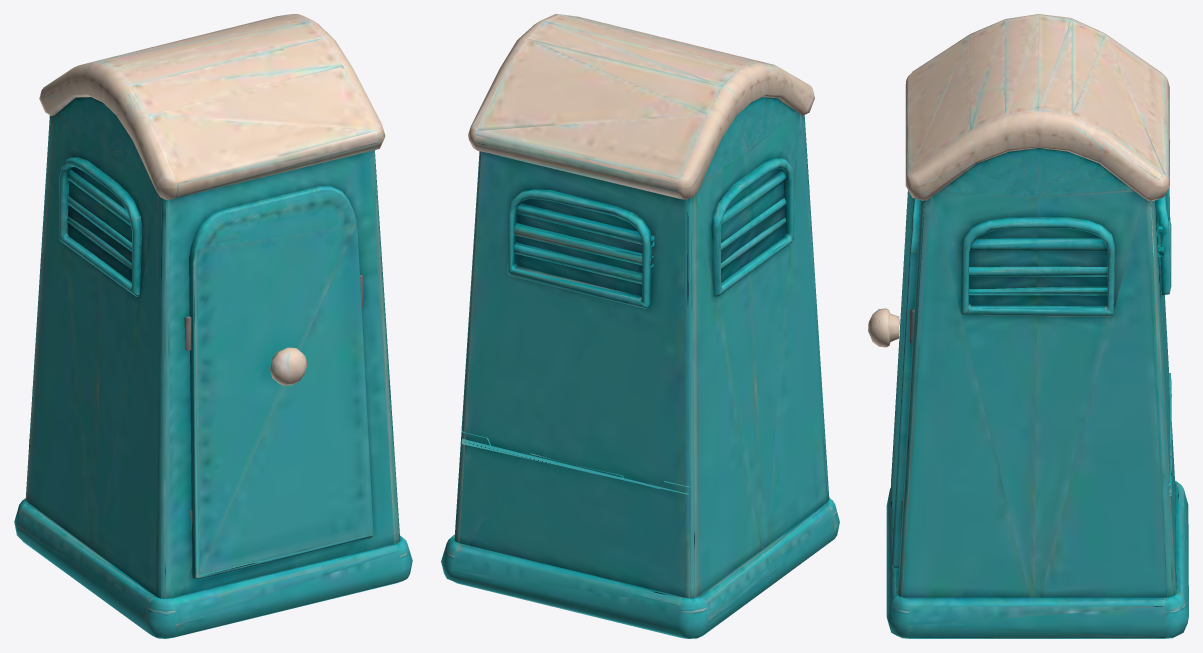
File: cabin.glb
3 renders of one model, left to right at view 1: azimuth 30°, elevation 25°; view 2: azimuth 150°, elevation 25°; view 3: azimuth 270°, elevation 25°, orthographic.
Parts seen in each view (by area): view 1: geometry_0; view 2: geometry_0; view 3: geometry_0.
Part boxes in pixels (<box>): geometry_0: <box>14,14,412,638</box>; geometry_0: <box>441,14,839,638</box>; geometry_0: <box>868,14,1188,638</box>.
Size of the model in its own units: 0.5378 by 1 by 0.566.
Materials: 1 (1 with a texture image).
